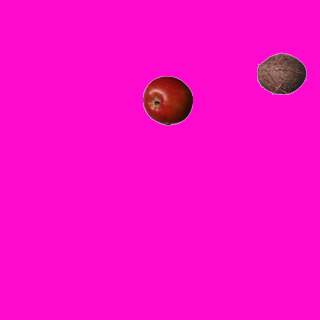Apple Braeburn: (142, 75, 192, 125)
Cocos: (256, 48, 306, 98)
